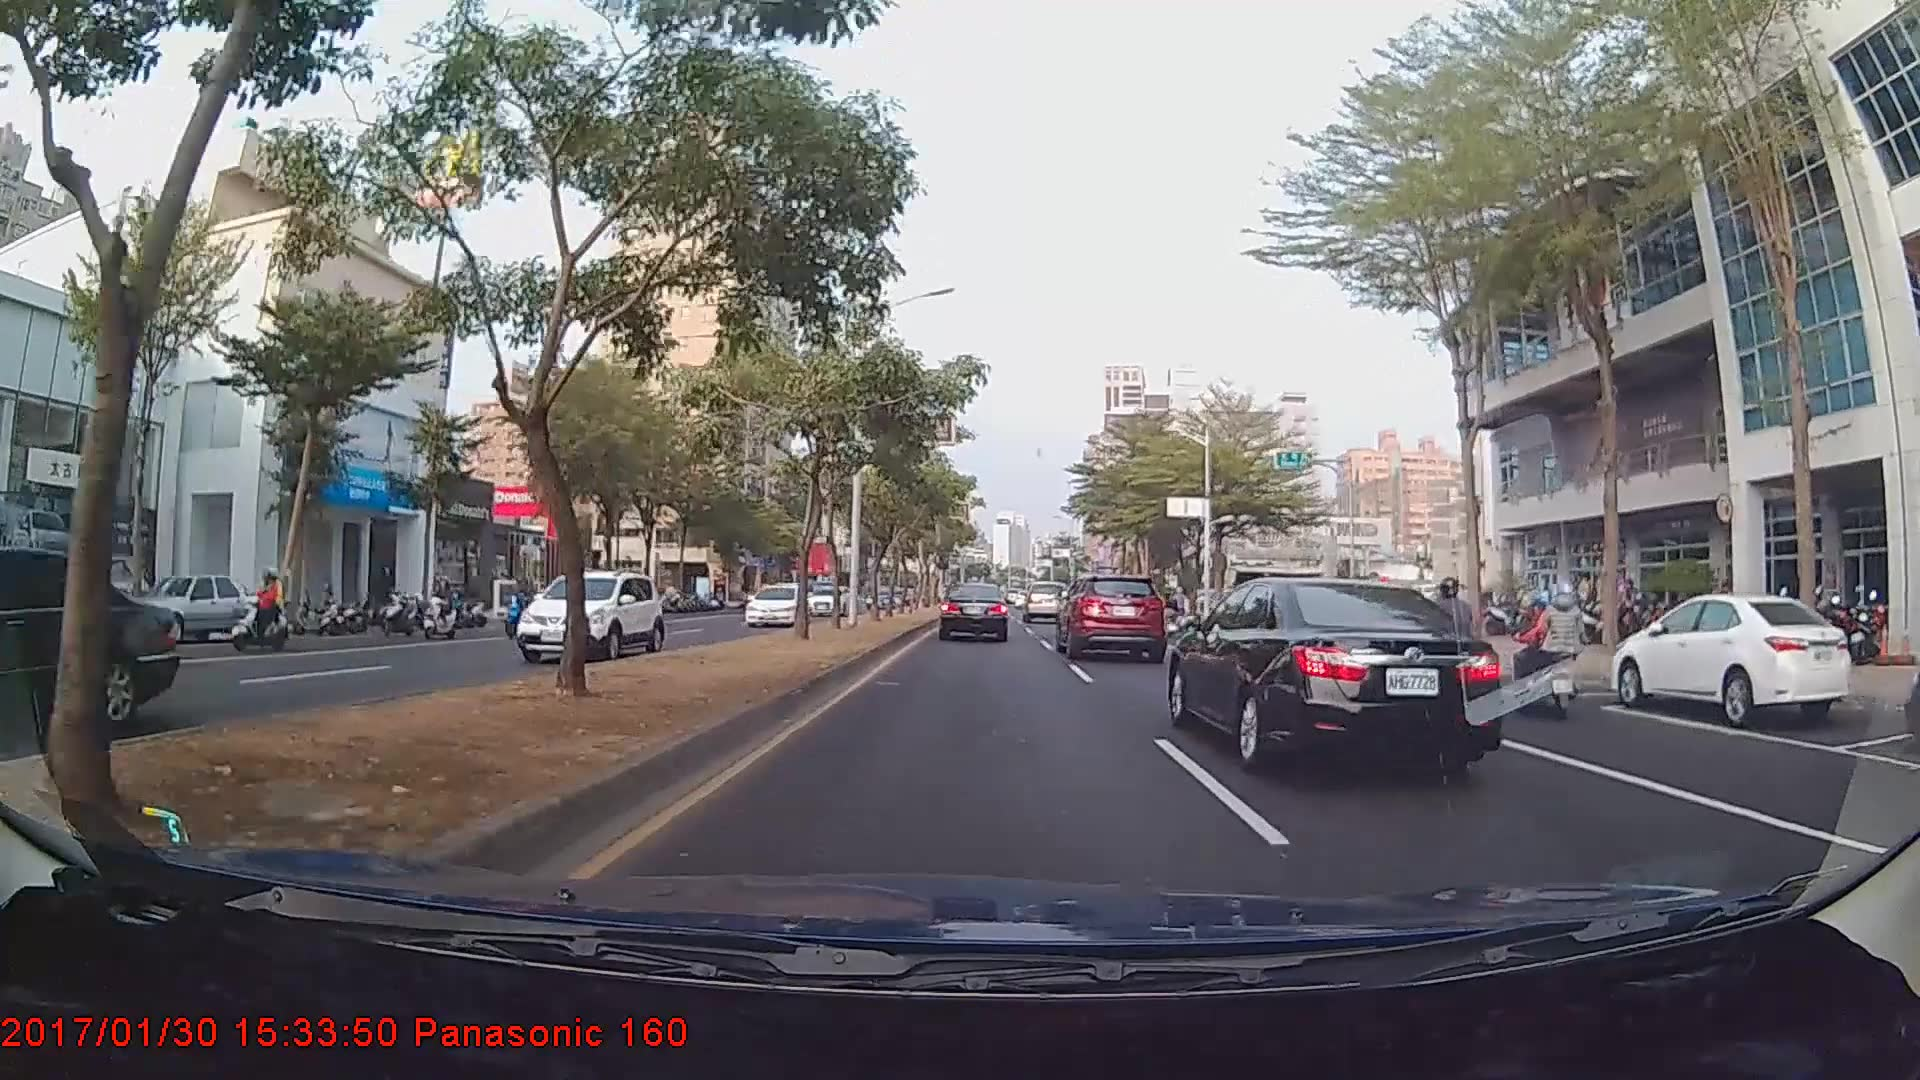rider: (1491, 578, 1591, 723), (1393, 572, 1480, 724), (223, 564, 294, 655)
vehicle: (1169, 565, 1493, 781), (0, 542, 182, 756), (1621, 589, 1852, 726), (511, 568, 665, 664), (112, 574, 266, 648), (1061, 573, 1166, 659), (938, 582, 1010, 643), (743, 585, 809, 628), (803, 586, 855, 617), (1023, 582, 1061, 622)
